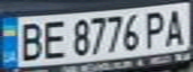6: (121, 10, 145, 52)
7: (87, 13, 109, 55), (106, 12, 127, 53)
8: (69, 16, 93, 57)
A: (160, 6, 190, 47)
B: (12, 19, 48, 62)
E: (36, 17, 69, 61)
P: (139, 8, 172, 50)
